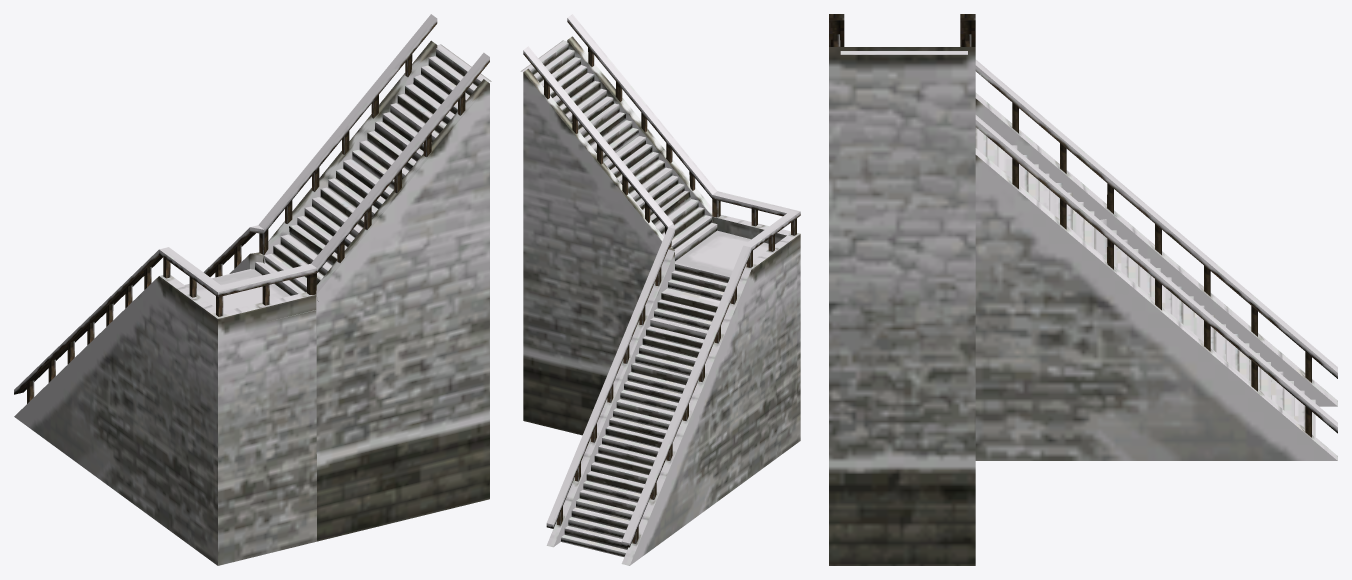
File: general_obj_watchtower02-01.glb
3 views of the same model, side by side, from view 1: azimuth 30°, elevation 25°; view 2: azimuth 150°, elevation 25°; view 3: azimuth 270°, elevation 25° (orthographic). The views are drawn at different scales.
Parts seen in each view (by area): view 1: general_obj_watchtower02; view 2: general_obj_watchtower02; view 3: general_obj_watchtower02.
Boxes of the visible parts, x1,y1,x2,y2 form: general_obj_watchtower02: [14, 14, 491, 565]; general_obj_watchtower02: [520, 14, 800, 565]; general_obj_watchtower02: [829, 14, 1337, 565].
Bounding box in the file's own units: 7.99 × 12.12 × 10.12.
1 material, 1 textured.
